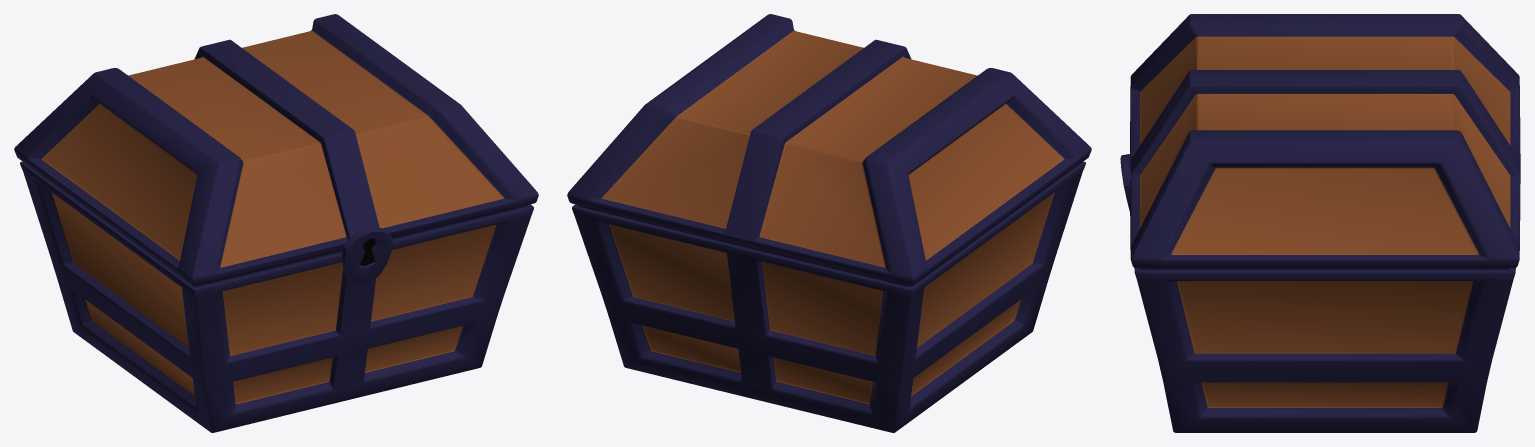
File: cofre 1.fbx
3 renders of one model, left to right at view 1: azimuth 30°, elevation 25°; view 2: azimuth 150°, elevation 25°; view 3: azimuth 270°, elevation 25°, orthographic. The views are drawn at different scales.
Visible parts, largest first — view 1: Cube, Circle; view 2: Cube; view 3: Cube, Circle.
Boxes of the visible parts, x1,y1,x2,y2 form: Cube: [14, 14, 538, 432]; Circle: [341, 227, 393, 282]; Cube: [567, 14, 1091, 432]; Cube: [1130, 14, 1520, 432]; Circle: [1120, 154, 1130, 211].
Bounding box in the file's own units: 249 × 179 × 229.
